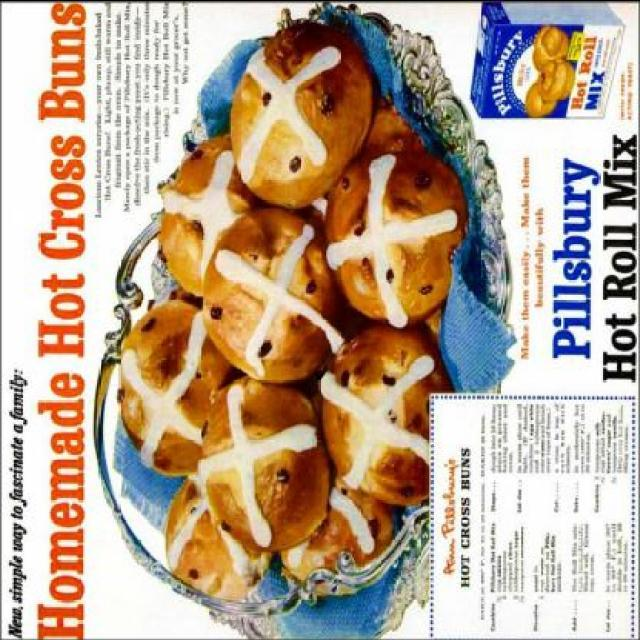Bread: (122, 22, 470, 604), (537, 58, 574, 102), (533, 26, 569, 70), (527, 80, 555, 120)
